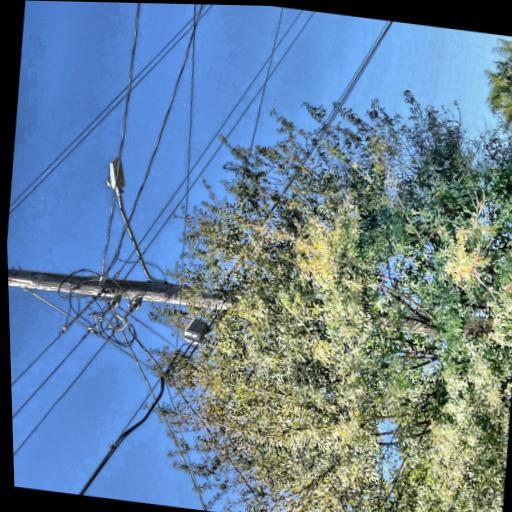pole: (45, 50, 137, 497)
street light: (98, 207, 220, 303)
